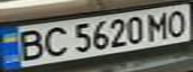0: (124, 14, 148, 45)
2: (106, 16, 130, 48)
5: (69, 20, 93, 54)
6: (90, 17, 112, 52)
B: (9, 27, 48, 63)
C: (39, 24, 72, 57)
M: (145, 9, 175, 40)
O: (163, 7, 190, 38)
